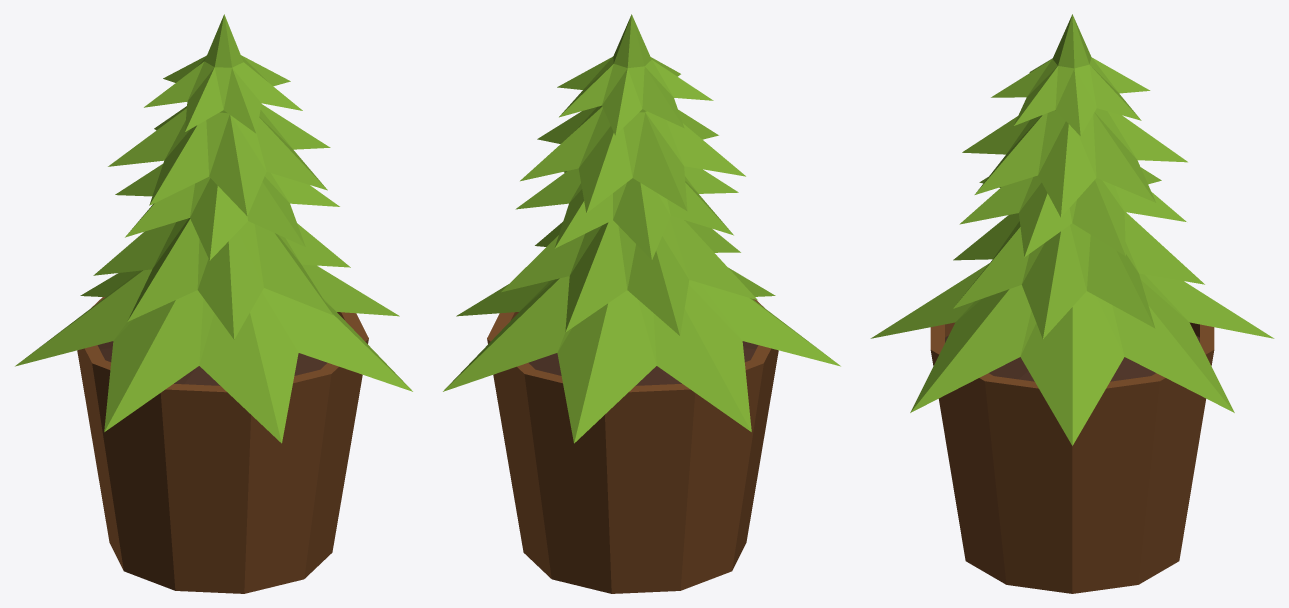
The model's file is Pot_Flower_2.fbx.
3 views of the same model, side by side, from view 1: azimuth 30°, elevation 25°; view 2: azimuth 150°, elevation 25°; view 3: azimuth 270°, elevation 25° (orthographic).
Parts seen in each view (by area): view 1: polySurface1860; view 2: polySurface1860; view 3: polySurface1860.
Part boxes in pixels (<box>): polySurface1860: <box>15,14,412,593</box>; polySurface1860: <box>443,14,840,593</box>; polySurface1860: <box>870,14,1274,593</box>.
Bounding box in the file's own units: 0.397 × 0.5926 × 0.4072.
Materials: 1 (1 with a texture image).
